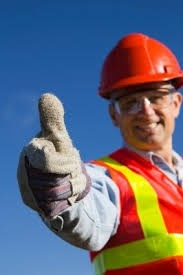helmet: (90, 29, 183, 95)
person with full safety: (79, 29, 183, 265)
safety vest: (91, 152, 180, 274)
